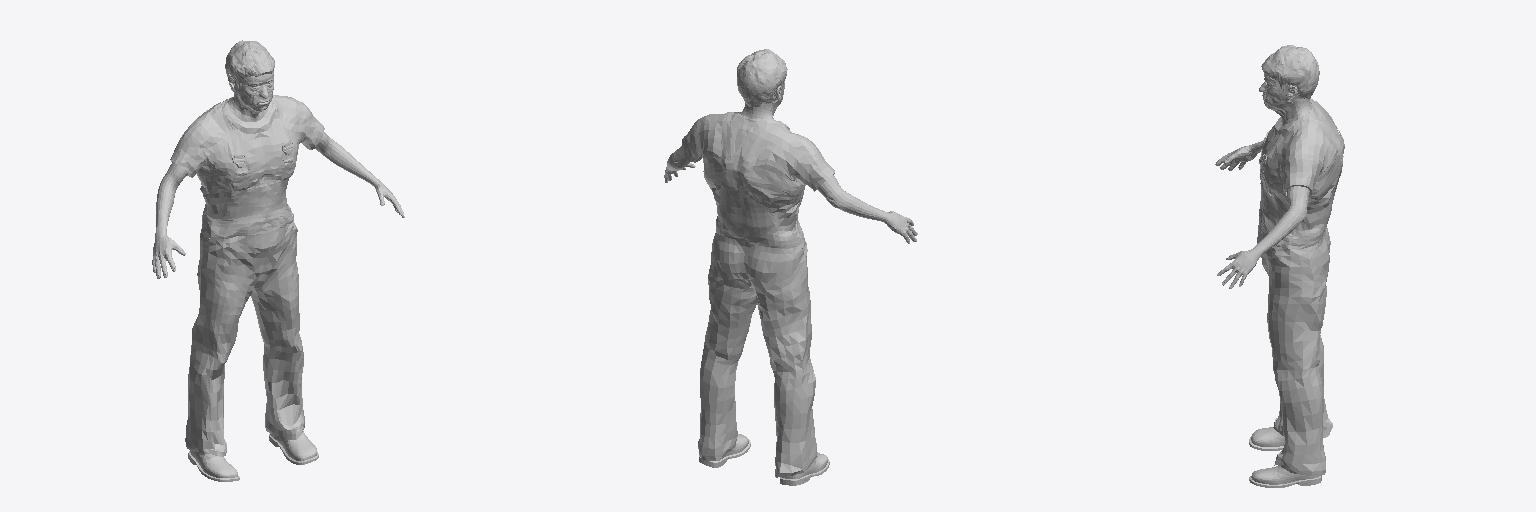
The model's file is avatar2.obj.
3 renders of one model, left to right at view 1: azimuth 30°, elevation 25°; view 2: azimuth 150°, elevation 25°; view 3: azimuth 270°, elevation 25°, orthographic.
Parts seen in each view (by area): view 1: male_worksuit01.obj, base.obj, shoes01.obj, short02.obj; view 2: male_worksuit01.obj, base.obj, short02.obj, shoes01.obj; view 3: male_worksuit01.obj, base.obj, short02.obj, shoes01.obj.
Boxes of the visible parts, box(x1,y1,x2,y2) form: male_worksuit01.obj: box(170, 95, 324, 458); base.obj: box(152, 74, 404, 278); shoes01.obj: box(188, 431, 318, 481); short02.obj: box(225, 40, 274, 92); male_worksuit01.obj: box(682, 112, 834, 477); base.obj: box(664, 81, 917, 243); short02.obj: box(737, 49, 787, 106); shoes01.obj: box(699, 434, 829, 485); male_worksuit01.obj: box(1257, 98, 1344, 475); base.obj: box(1215, 74, 1312, 288); short02.obj: box(1261, 45, 1319, 101); shoes01.obj: box(1249, 427, 1321, 487).
Bounding box in the file's own units: 10.07 × 16.21 × 4.56.